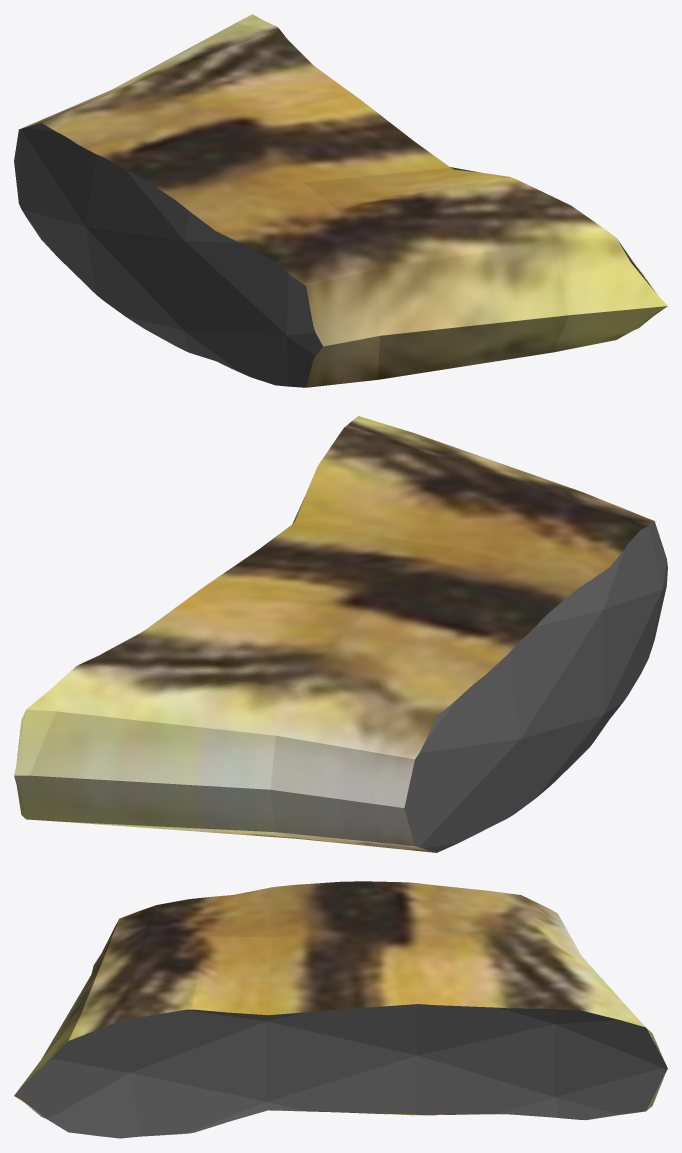
The model's file is link_13_composite.obj.
The picture shows the model from 3 angles, top to bottom: view 1: azimuth 30°, elevation 25°; view 2: azimuth 150°, elevation 25°; view 3: azimuth 270°, elevation 25°; orthographic projection. The views are drawn at different scales.
Bounding box in the file's own units: 0.00135 × 0.000558 × 0.00241.
Materials: 1 (1 with a texture image).
